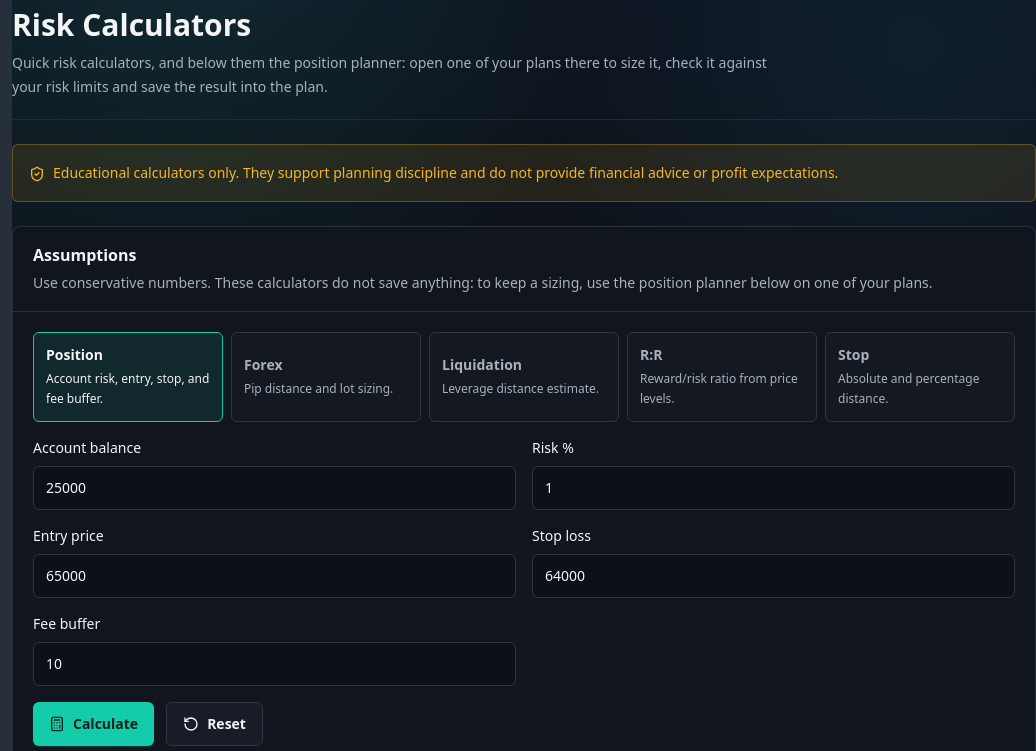
Scenario: the risk desk's page copy describes the plan flow › what the page says is true: the calculators only calculate
This screenshot has width=1036, height=751.
Click the button "Calculate": point(94, 724) [33,702,154,746]
(page scrolled)
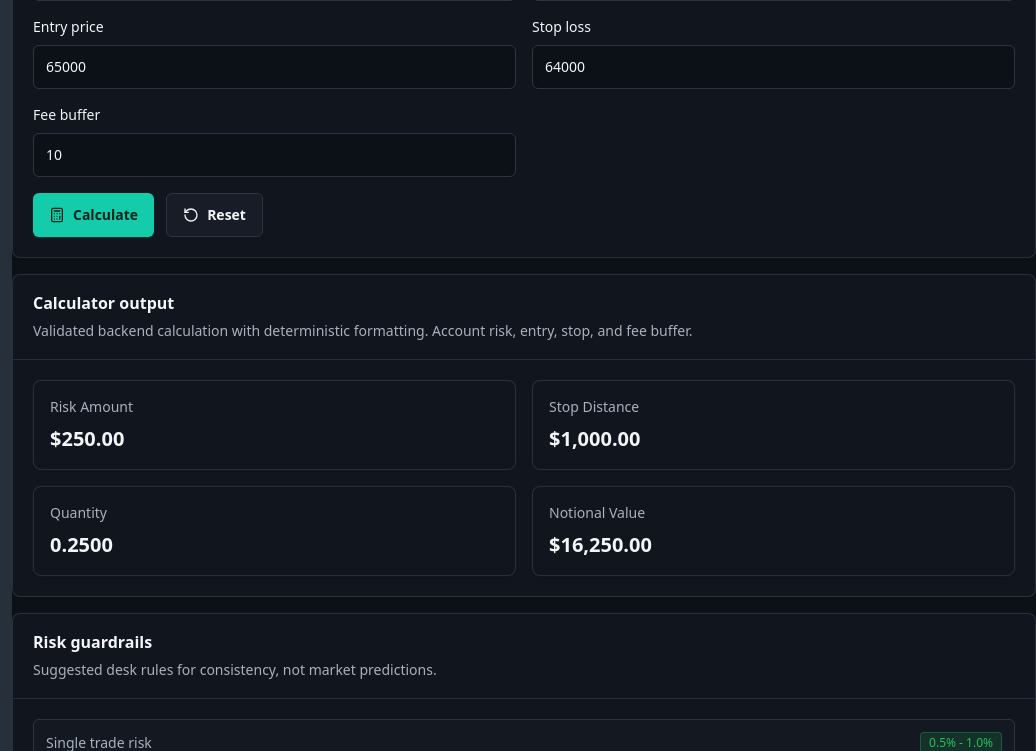
Expected: the text "Risk Amount" is shown, [50,397,133,416]
